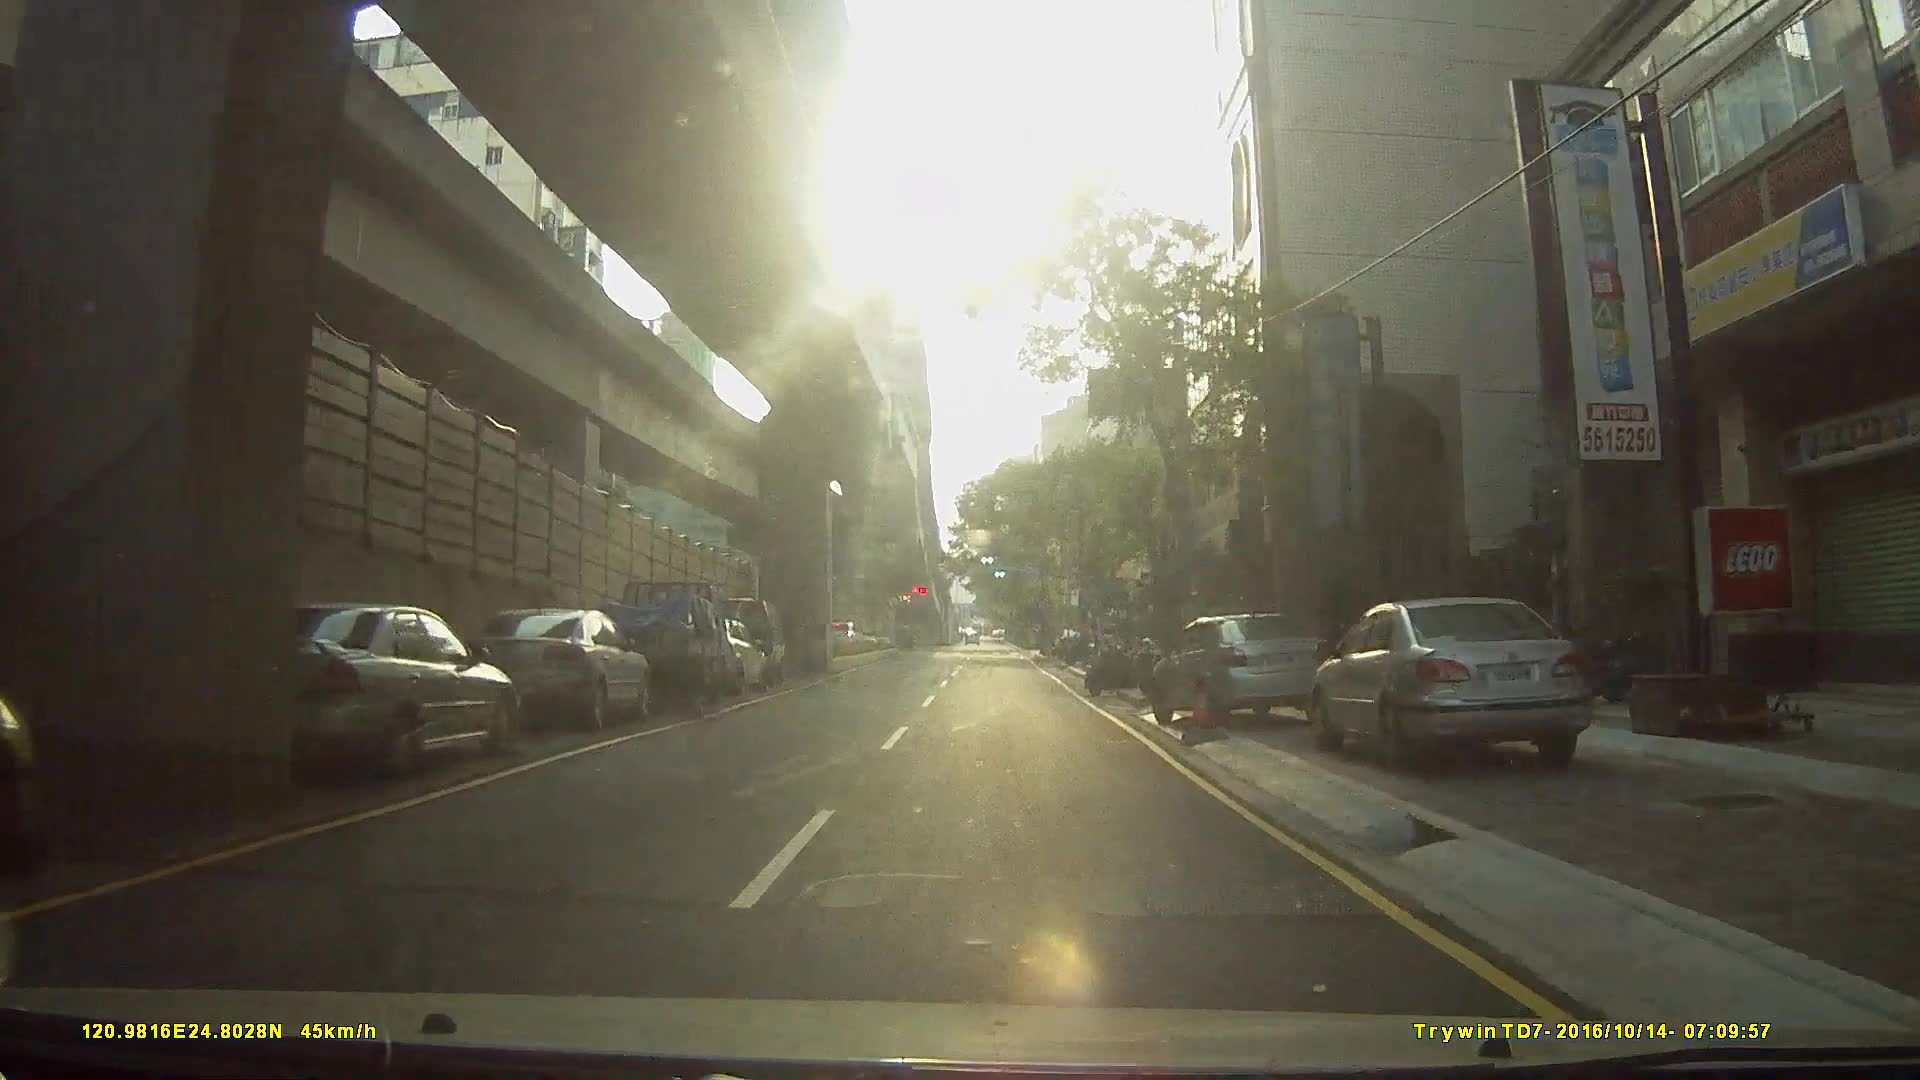rider: (1087, 627, 1154, 702)
vehicle: (220, 603, 533, 796), (1316, 594, 1615, 775), (445, 608, 662, 737), (1149, 606, 1340, 729), (583, 575, 727, 712)
